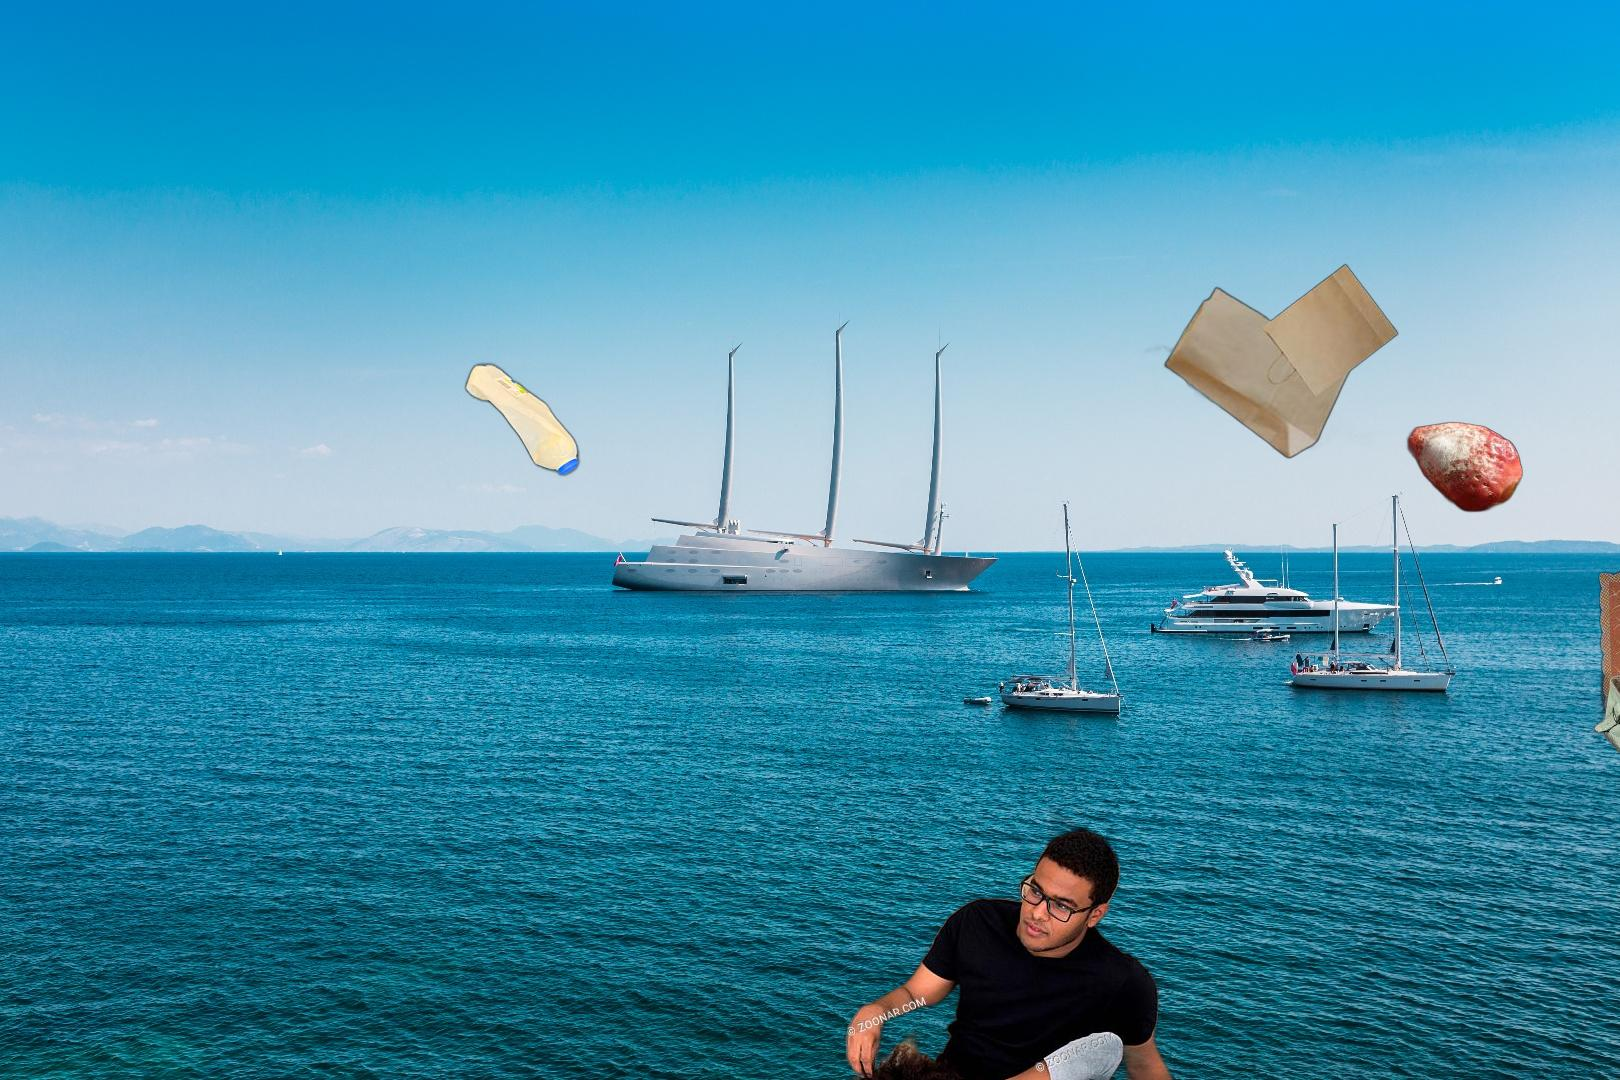biological: (1280, 345, 1525, 529)
paper-bag: (1137, 256, 1399, 460)
plastic-bottles: (460, 357, 583, 482)
shoes: (1590, 567, 1620, 791)
trashbox-cardboard: (824, 802, 1207, 1080)
